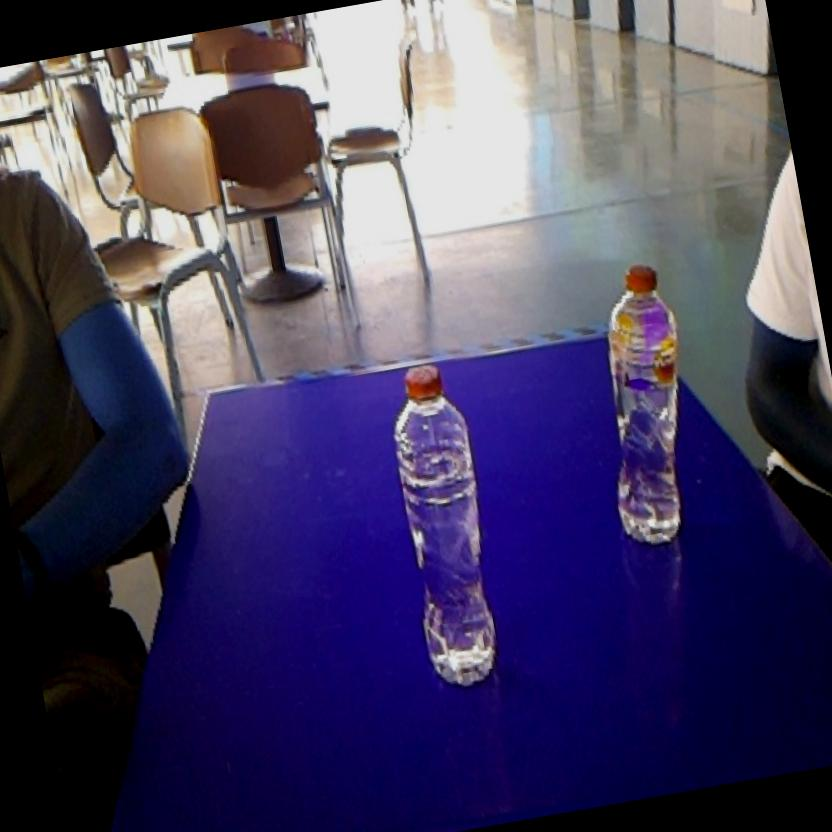good: (568, 244, 717, 558)
no_label: (370, 352, 522, 704)
